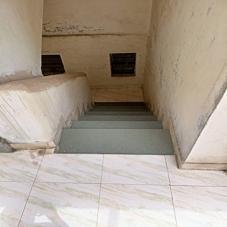Stair Down: (59, 101, 173, 154)
